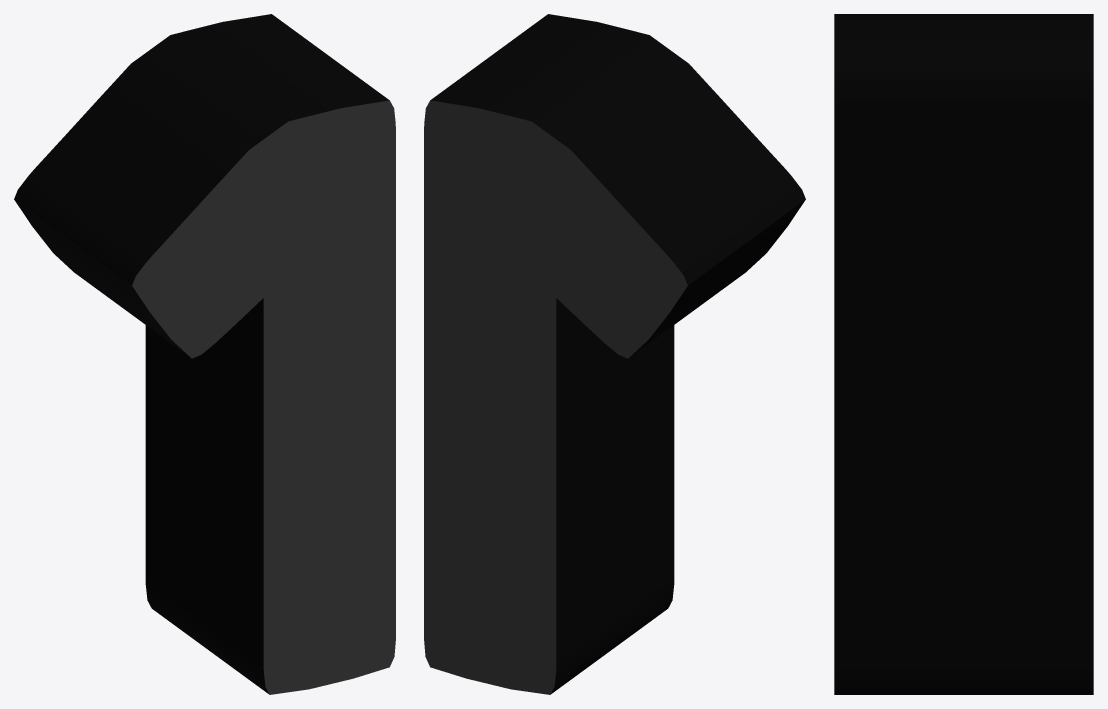
The picture shows the model from 3 angles, left to right: view 1: azimuth 30°, elevation 25°; view 2: azimuth 150°, elevation 25°; view 3: azimuth 270°, elevation 25°; orthographic projection. The views are drawn at different scales.
Parts seen in each view (by area): view 1: 1_Zyzol_Black; view 2: 1_Zyzol_Black; view 3: 1_Zyzol_Black.
Part boxes in pixels (x1,y1,x2,y2): 1_Zyzol_Black: (14,14,395,694); 1_Zyzol_Black: (424,14,805,694); 1_Zyzol_Black: (834,14,1093,694).
Size of what is drawn, in the model's own units: 0.0581 by 0.1206 by 0.045.
2 materials, 2 textured.
